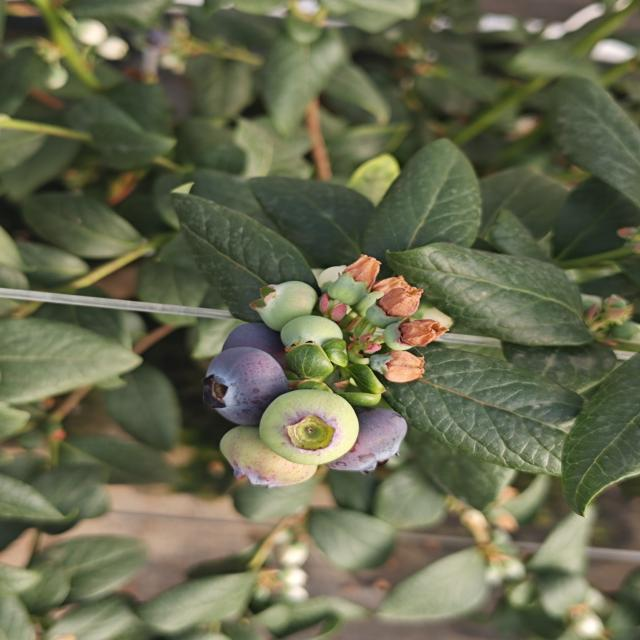ripe: (198, 344, 292, 428), (217, 320, 298, 378), (345, 407, 404, 473)
